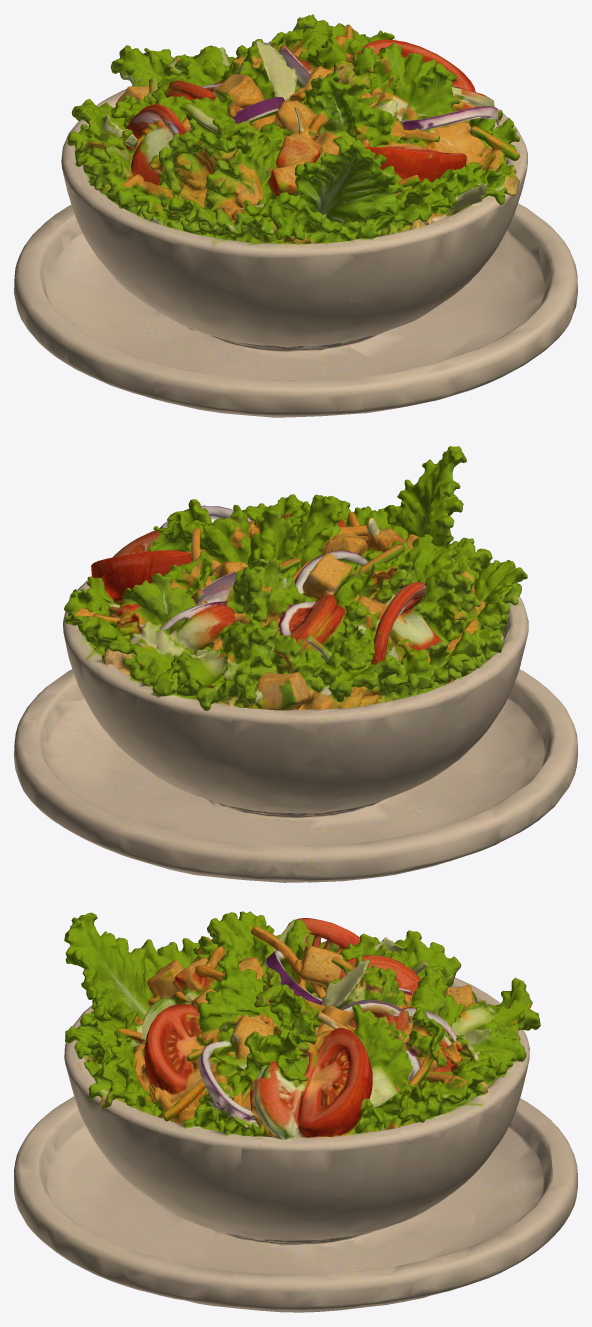
The model's file is salad.glb.
3 renders of one model, top to bottom at view 1: azimuth 30°, elevation 25°; view 2: azimuth 150°, elevation 25°; view 3: azimuth 270°, elevation 25°, orthographic.
Visible parts, largest first — view 1: mesh_node; view 2: mesh_node; view 3: mesh_node.
Part boxes in pixels (x1,y1,x2,y2): mesh_node: (14,14,577,417); mesh_node: (14,446,577,882); mesh_node: (14,911,577,1312).
Size of the model in its own units: 1.9 by 1 by 1.9.
1 material, 1 textured.
